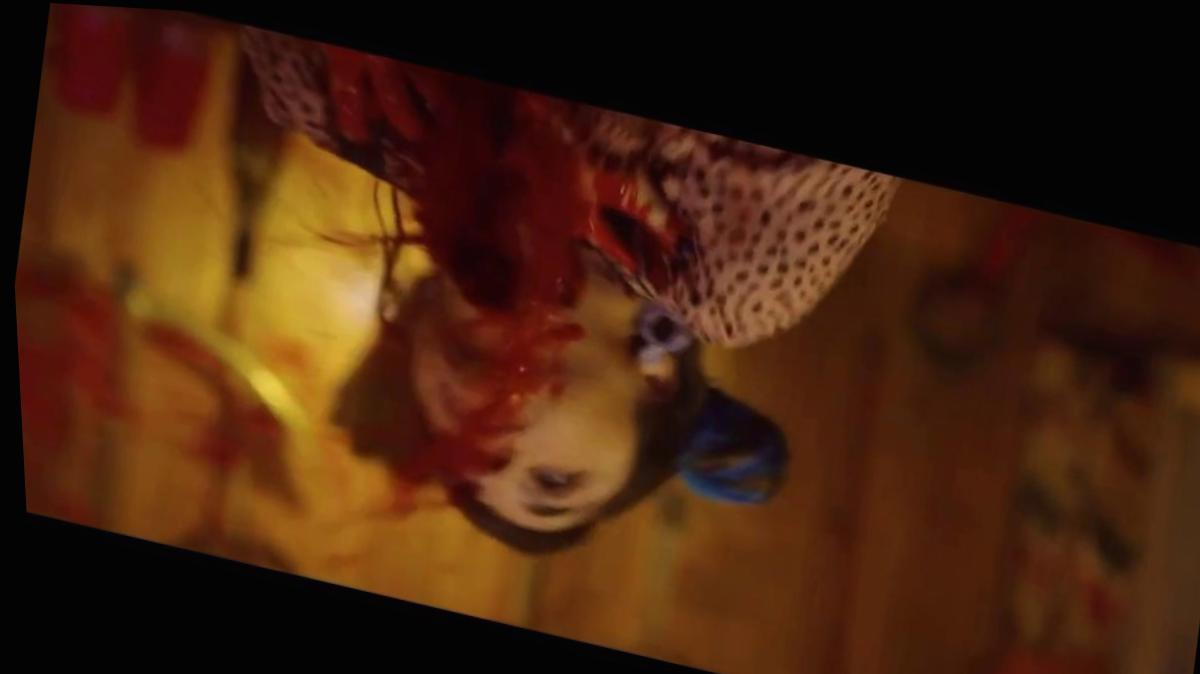Fire: (241, 27, 698, 514), (12, 239, 128, 502), (141, 321, 288, 528), (314, 504, 389, 528), (315, 531, 357, 563)
